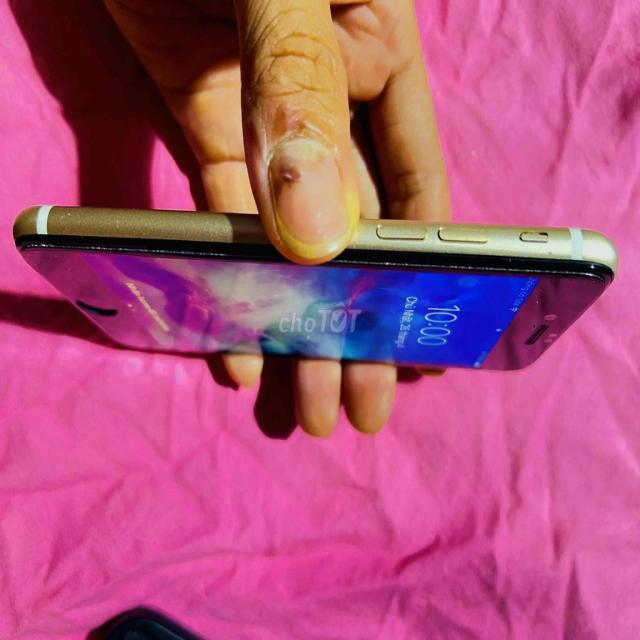scratch: (341, 252, 607, 282), (20, 242, 231, 260), (512, 218, 552, 240), (437, 222, 451, 236), (370, 220, 388, 230)
